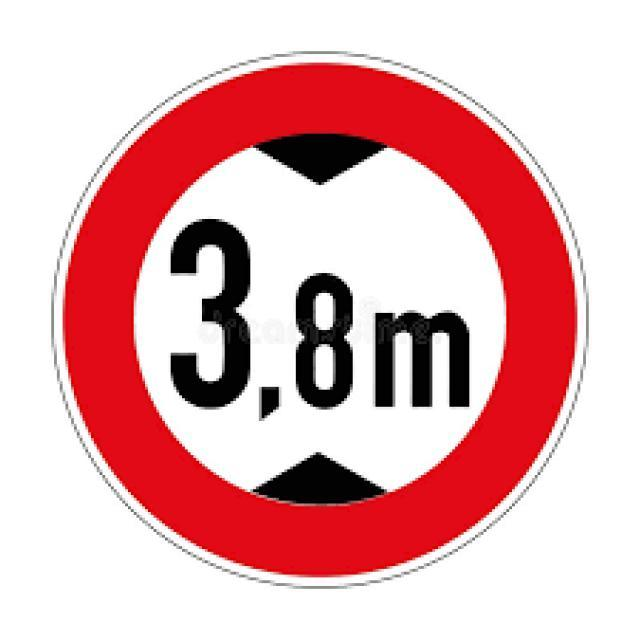height limit: (60, 65, 579, 578)
